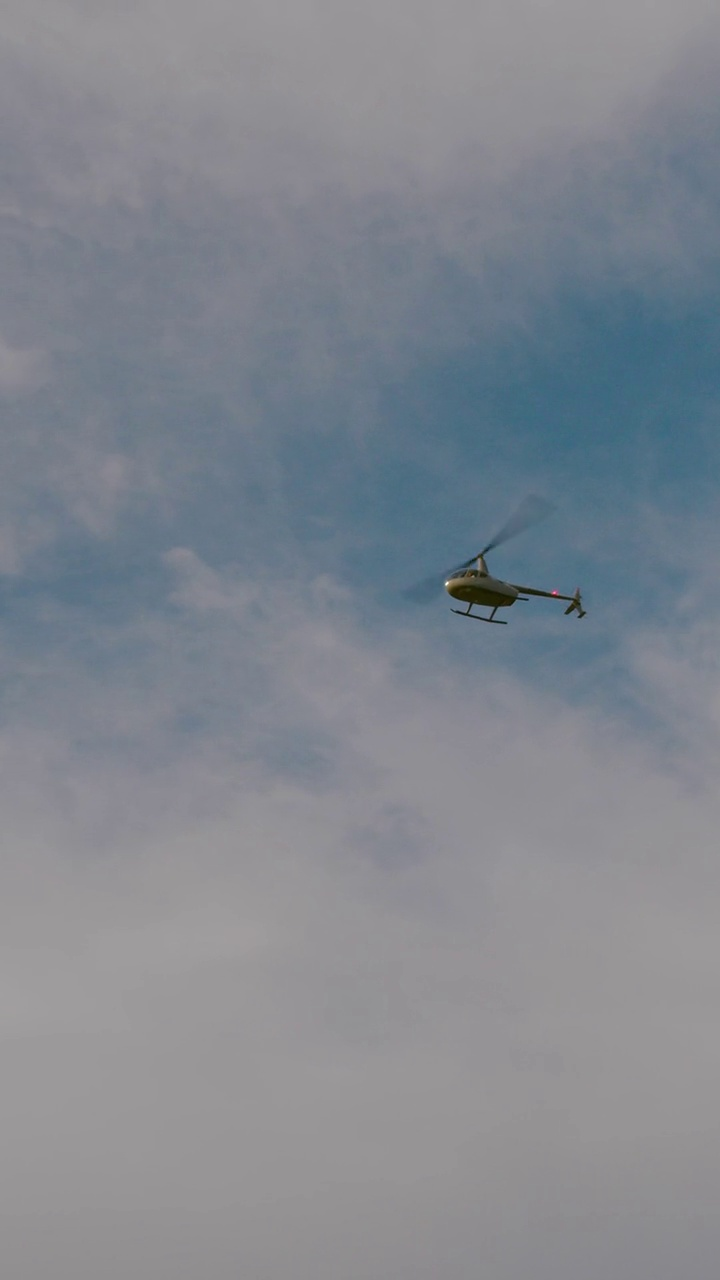heli: (403, 499, 586, 627)
